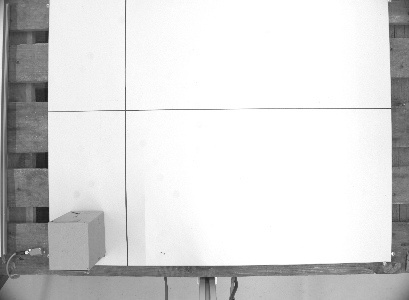b5: (46, 209, 108, 273)
